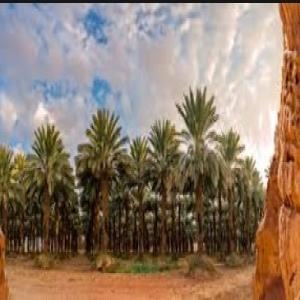palm tree: (174, 84, 223, 254), (76, 107, 128, 255), (19, 122, 74, 252), (146, 117, 179, 255), (215, 126, 244, 254), (128, 135, 150, 253)
